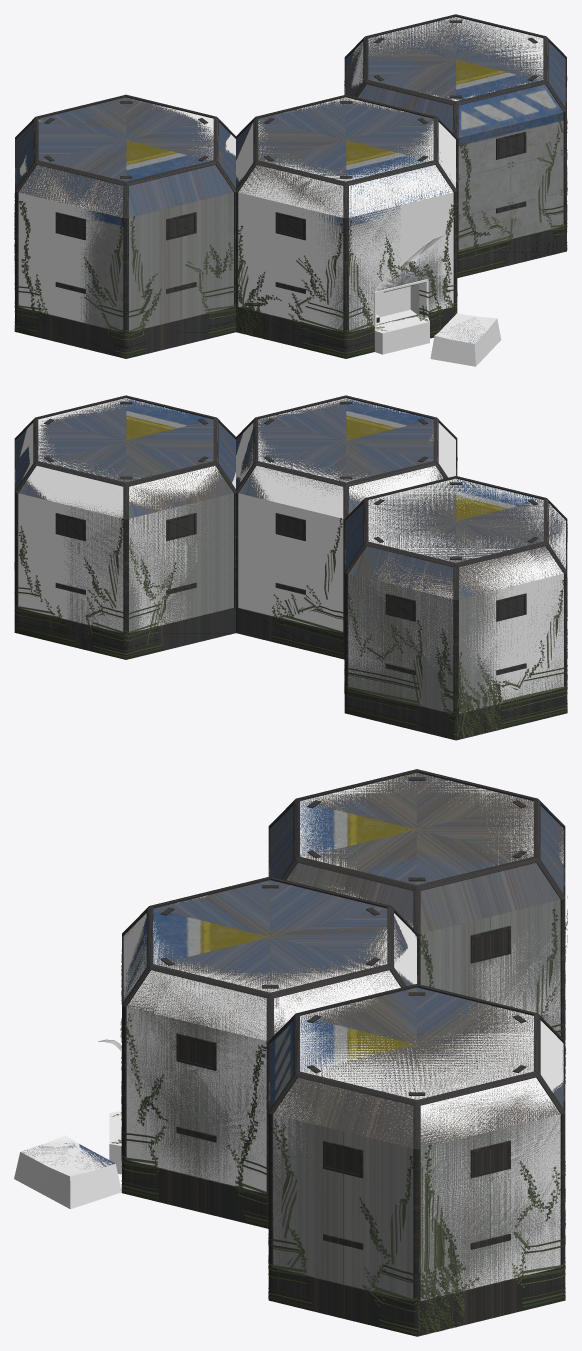
The picture shows the model from 3 angles, top to bottom: view 1: azimuth 30°, elevation 25°; view 2: azimuth 150°, elevation 25°; view 3: azimuth 270°, elevation 25°; orthographic projection. The views are drawn at different scales.
Visible parts, largest first — view 1: um_objects_un_a_w23base02_01_model_lod0Shape:objects_un_a_w2 (×7), um_objects_un_a_w23base02_01_model_lod2Shape:objects_un_a_w2 (×3), um_objects_un_a_w23base02_01_model_lod1Shape:objects_un_a_w2 (×4), nomerge_led01_shape:objects_un_a_w23base02_led01; view 2: um_objects_un_a_w23base02_01_model_lod0Shape:objects_un_a_w2 (×6), um_objects_un_a_w23base02_01_model_lod1Shape:objects_un_a_w2 (×5), um_objects_un_a_w23base02_01_model_lod2Shape:objects_un_a_w2 (×2), nomerge_led01_shape:objects_un_a_w23base02_led01; view 3: um_objects_un_a_w23base02_01_model_lod0Shape:objects_un_a_w2 (×6), um_objects_un_a_w23base02_01_model_lod2Shape:objects_un_a_w2 (×2), um_objects_un_a_w23base02_01_model_lod1Shape:objects_un_a_w2 (×5), nomerge_led01_shape:objects_un_a_w23base02_led01.
Boxes of the visible parts, x1=… form: um_objects_un_a_w23base02_01_model_lod0Shape:objects_un_a_w2 (×7): x1=14, y1=14, x2=567, y2=366; um_objects_un_a_w23base02_01_model_lod2Shape:objects_un_a_w2 (×3): x1=16, y1=36, x2=565, y2=330; um_objects_un_a_w23base02_01_model_lod1Shape:objects_un_a_w2 (×4): x1=14, y1=14, x2=563, y2=332; nomerge_led01_shape:objects_un_a_w23base02_led01: x1=44, y1=20, x2=537, y2=293; um_objects_un_a_w23base02_01_model_lod0Shape:objects_un_a_w2 (×6): x1=14, y1=395, x2=567, y2=740; um_objects_un_a_w23base02_01_model_lod1Shape:objects_un_a_w2 (×5): x1=15, y1=396, x2=567, y2=740; um_objects_un_a_w23base02_01_model_lod2Shape:objects_un_a_w2 (×2): x1=16, y1=430, x2=565, y2=713; nomerge_led01_shape:objects_un_a_w23base02_led01: x1=44, y1=401, x2=538, y2=675; um_objects_un_a_w23base02_01_model_lod0Shape:objects_un_a_w2 (×6): x1=14, y1=769, x2=567, y2=1336; um_objects_un_a_w23base02_01_model_lod2Shape:objects_un_a_w2 (×2): x1=123, y1=772, x2=563, y2=1300; um_objects_un_a_w23base02_01_model_lod1Shape:objects_un_a_w2 (×5): x1=121, y1=771, x2=567, y2=1334; nomerge_led01_shape:objects_un_a_w23base02_led01: x1=160, y1=777, x2=526, y2=1249.
Size of what is drawn, in the model's own units: 80.44 by 23.07 by 52.33.
Materials: 9 (8 with a texture image).
